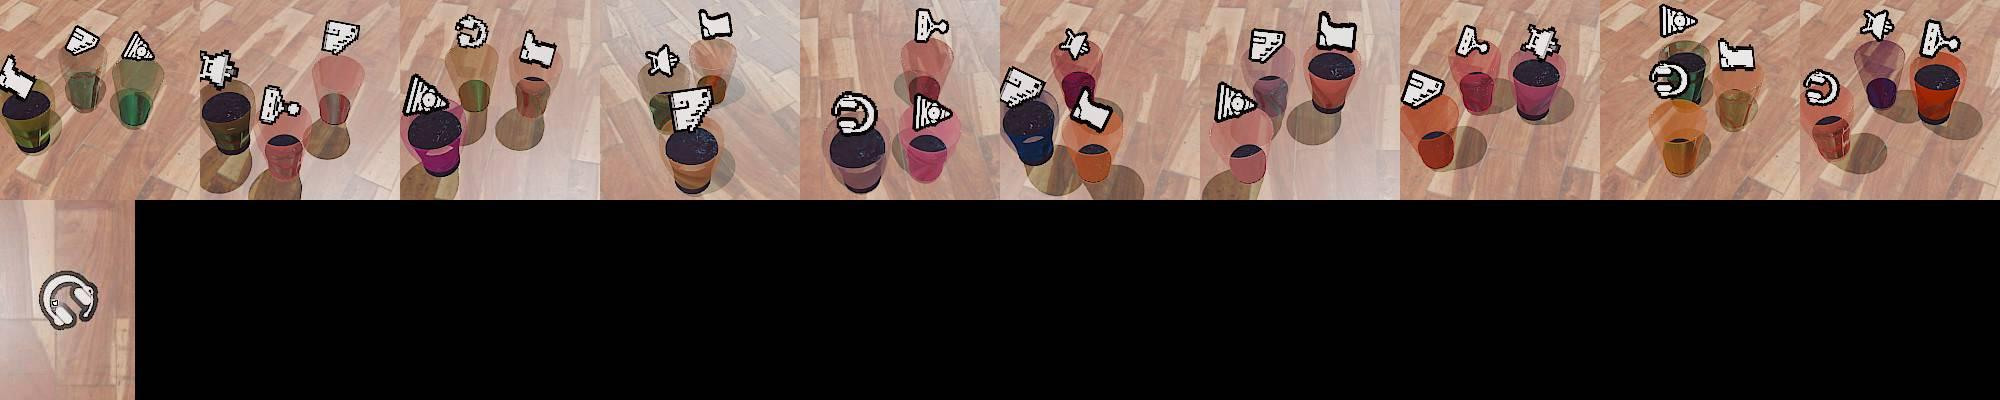icon: (36, 269, 101, 334), (1066, 84, 1115, 132), (830, 89, 879, 135), (403, 71, 450, 117), (1000, 65, 1047, 110), (668, 85, 713, 131), (1216, 79, 1259, 122), (259, 83, 304, 125), (1402, 68, 1444, 108), (198, 47, 239, 89), (1918, 19, 1962, 59), (1519, 23, 1562, 62), (0, 55, 37, 101), (912, 90, 953, 131), (1316, 11, 1356, 54), (519, 29, 559, 69), (1649, 61, 1689, 99), (1247, 27, 1286, 65), (1802, 69, 1841, 107), (321, 19, 360, 56), (913, 6, 950, 43), (1717, 37, 1756, 71), (1659, 4, 1698, 38), (1455, 23, 1491, 59), (1860, 9, 1897, 43), (454, 13, 489, 48), (644, 43, 681, 76), (698, 8, 732, 41), (65, 24, 101, 56), (1057, 28, 1092, 60), (120, 31, 156, 61)
